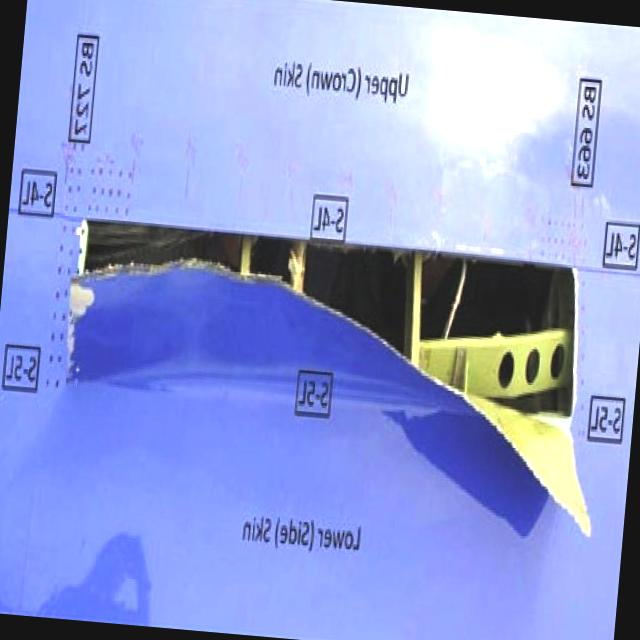crack: (49, 212, 616, 542)
